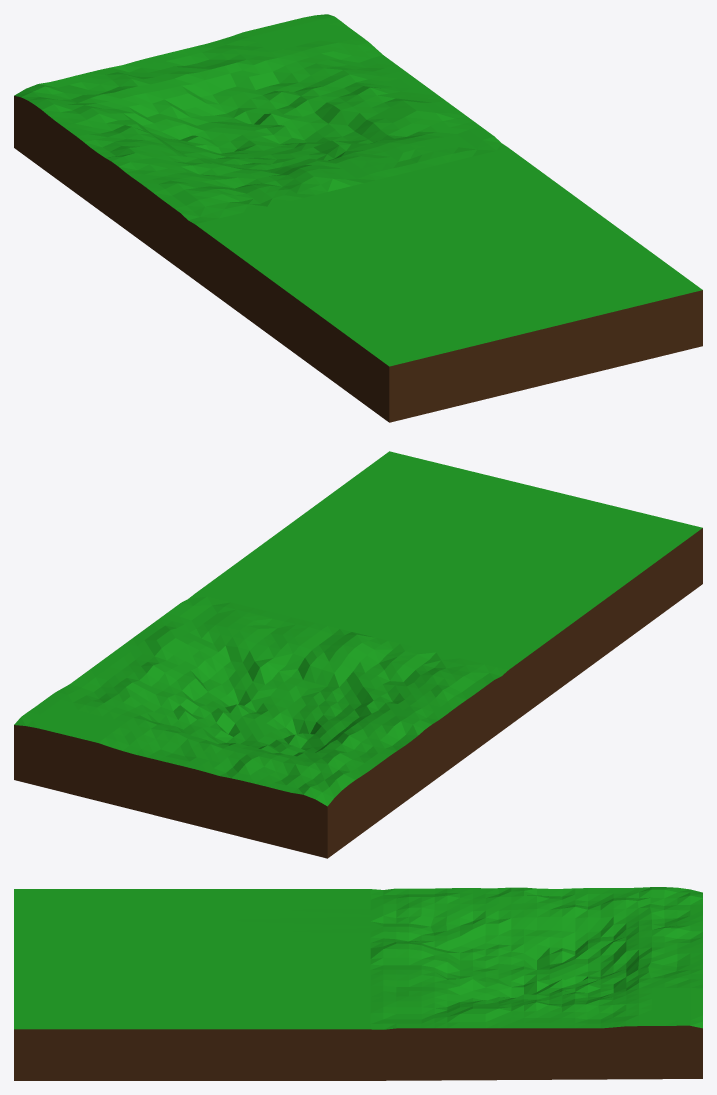
Rendered from PondTest2.fbx.
The picture shows the model from 3 angles, top to bottom: view 1: azimuth 30°, elevation 25°; view 2: azimuth 150°, elevation 25°; view 3: azimuth 270°, elevation 25°; orthographic projection. The views are drawn at different scales.
Visible parts, largest first — view 1: Cube.002; view 2: Cube.002; view 3: Cube.002.
Boxes of the visible parts, x1,y1,x2,y2 form: Cube.002: (14, 14, 702, 422); Cube.002: (14, 451, 702, 858); Cube.002: (14, 887, 702, 1080).
Size of the model in its own units: 20033 by 3799 by 41537.
